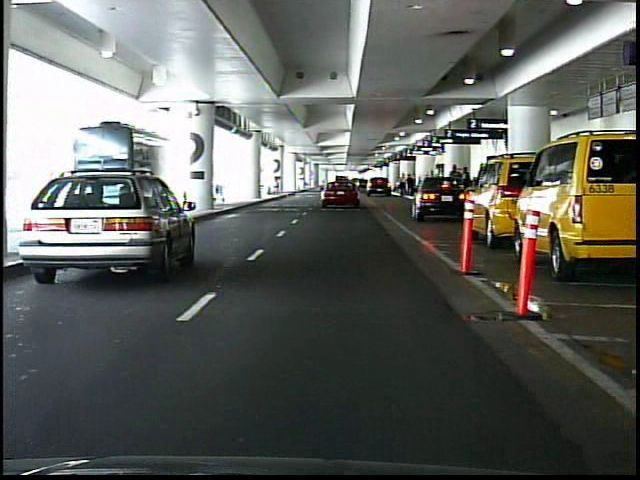person: (447, 163, 464, 206), (460, 166, 476, 208), (400, 172, 409, 196), (407, 173, 415, 196)
